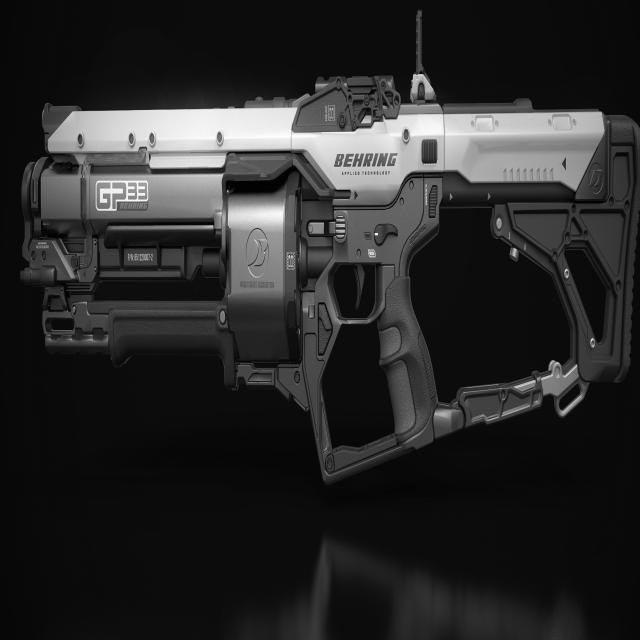Weapon: (22, 13, 640, 483)
